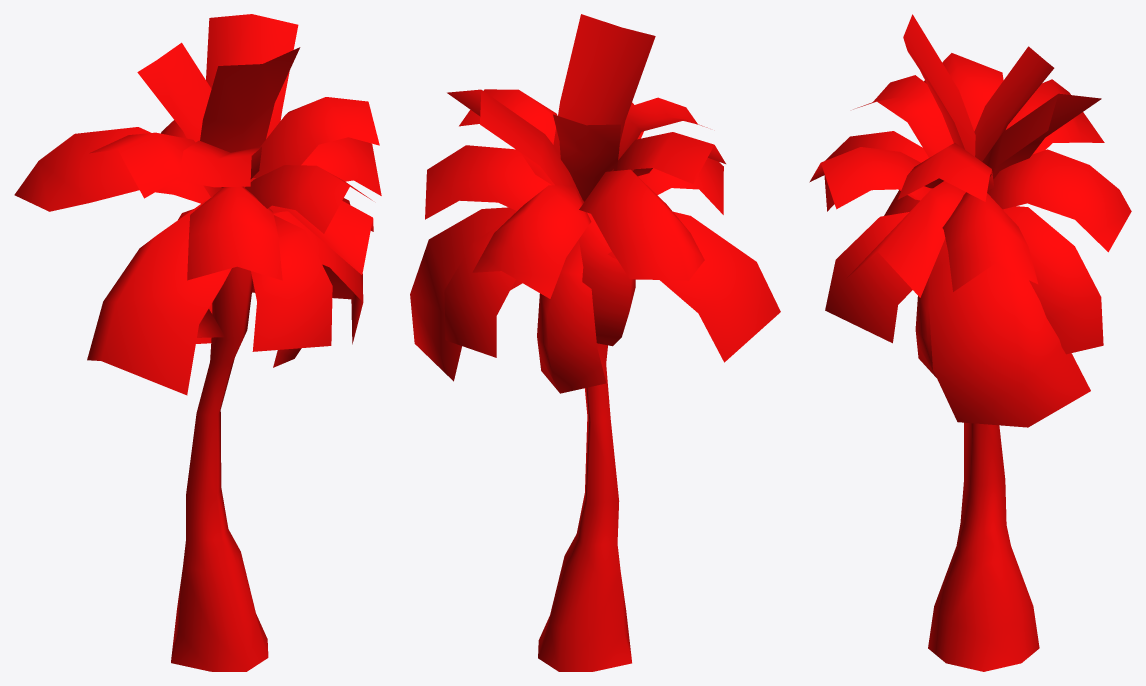
Rendered from tree.dae.
The picture shows the model from 3 angles, left to right: view 1: azimuth 30°, elevation 25°; view 2: azimuth 150°, elevation 25°; view 3: azimuth 270°, elevation 25°; orthographic projection. The views are drawn at different scales.
Parts seen in each view (by area): view 1: node0; view 2: node0; view 3: node0.
Part boxes in pixels (x1,y1,x2,y2): node0: (14, 14, 381, 671); node0: (410, 14, 780, 671); node0: (809, 14, 1131, 671).
Bounding box in the file's own units: 235 × 434 × 205.
